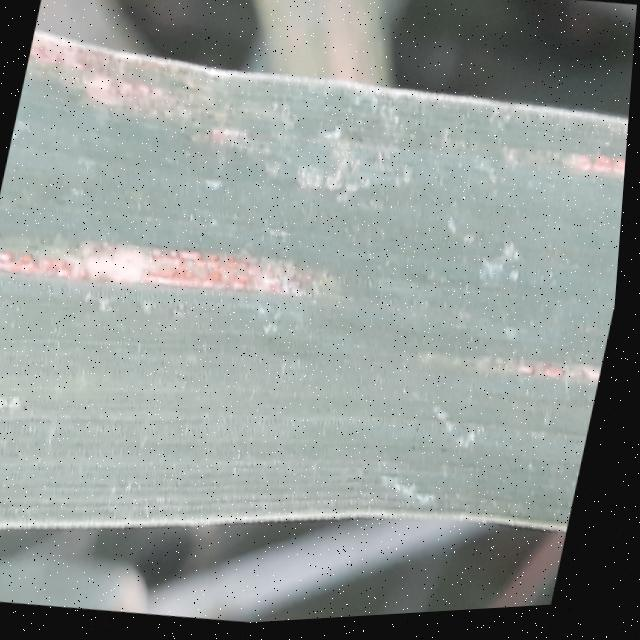yellow_rust: (0, 0, 639, 621)
